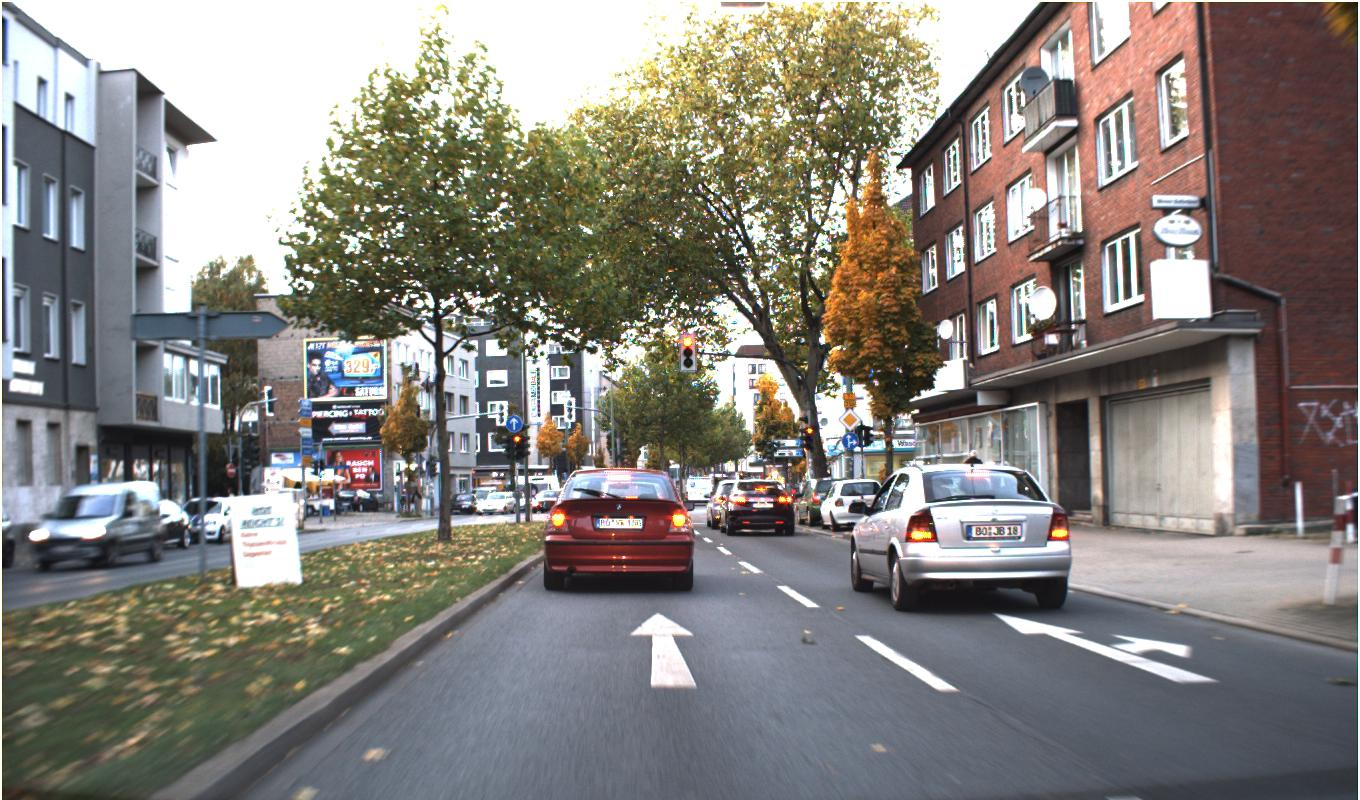mandatory: (841, 432, 858, 450), (505, 415, 522, 432)
sign: (839, 408, 861, 432)
